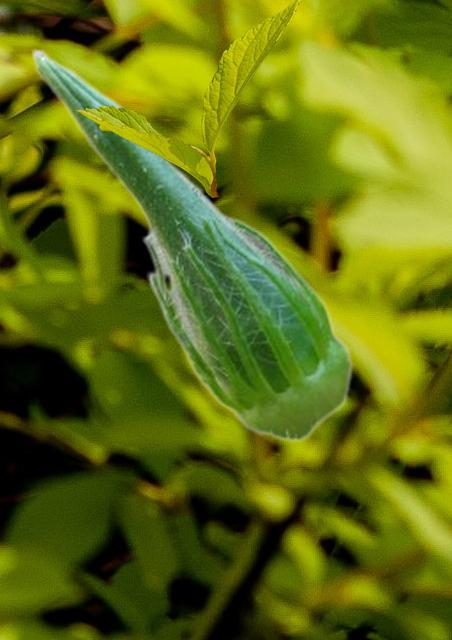okra: (30, 47, 353, 441)
